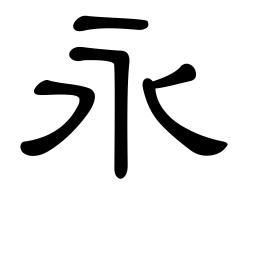D: (72, 14, 149, 35)
HSZ: (105, 45, 132, 77)
Hs: (68, 44, 99, 64)
Ne: (182, 133, 230, 158)
PNc: (139, 76, 164, 106)
PZe: (19, 135, 59, 159)
Ps: (172, 61, 199, 84)
SG: (111, 155, 131, 180)
Sm: (111, 98, 131, 134)
TPZ: (70, 82, 96, 115)
Ts: (30, 77, 59, 98)
